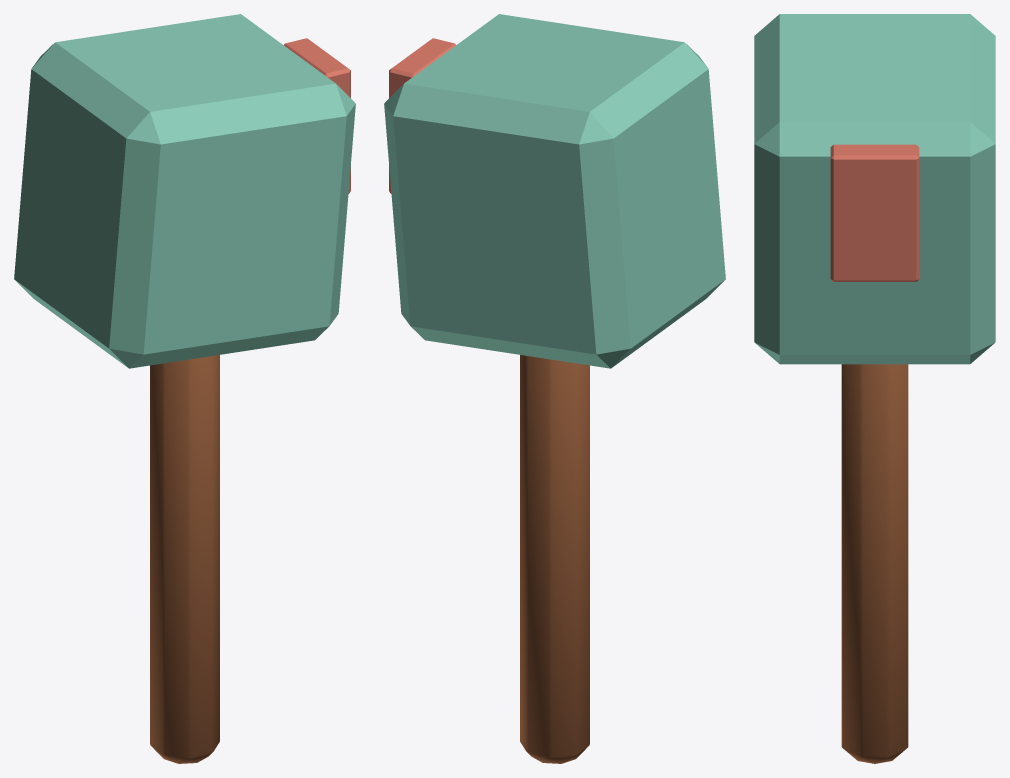
3 renders of one model, left to right at view 1: azimuth 30°, elevation 25°; view 2: azimuth 150°, elevation 25°; view 3: azimuth 270°, elevation 25°, orthographic.
Parts seen in each view (by area): view 1: Box, Post, Flag; view 2: Box, Post, Flag; view 3: Box, Post, Flag.
Boxes of the visible parts, x1,y1,x2,y2 form: Box: (14, 14, 355, 368); Post: (150, 355, 219, 763); Flag: (284, 38, 350, 193); Box: (384, 14, 725, 368); Post: (520, 355, 589, 763); Flag: (389, 38, 455, 193); Box: (754, 14, 995, 364); Post: (841, 364, 908, 763); Flag: (830, 144, 919, 281).
Bounding box in the file's own units: 0.4899 × 1.21 × 0.38.
